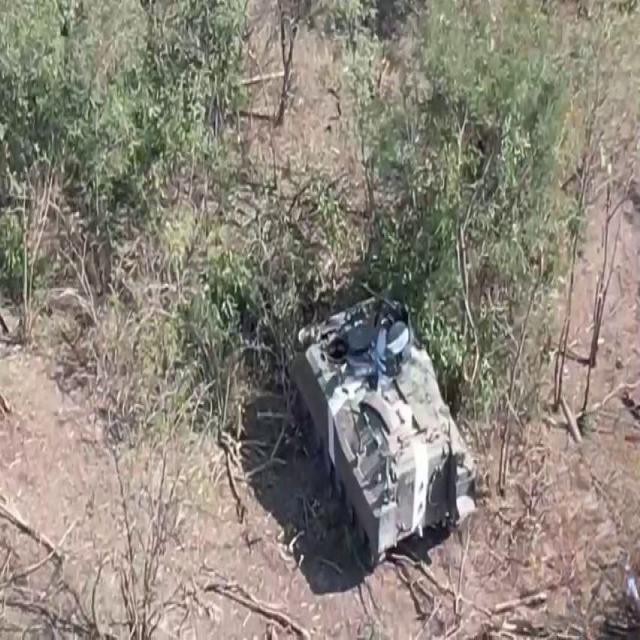APC: (293, 296, 478, 551)
